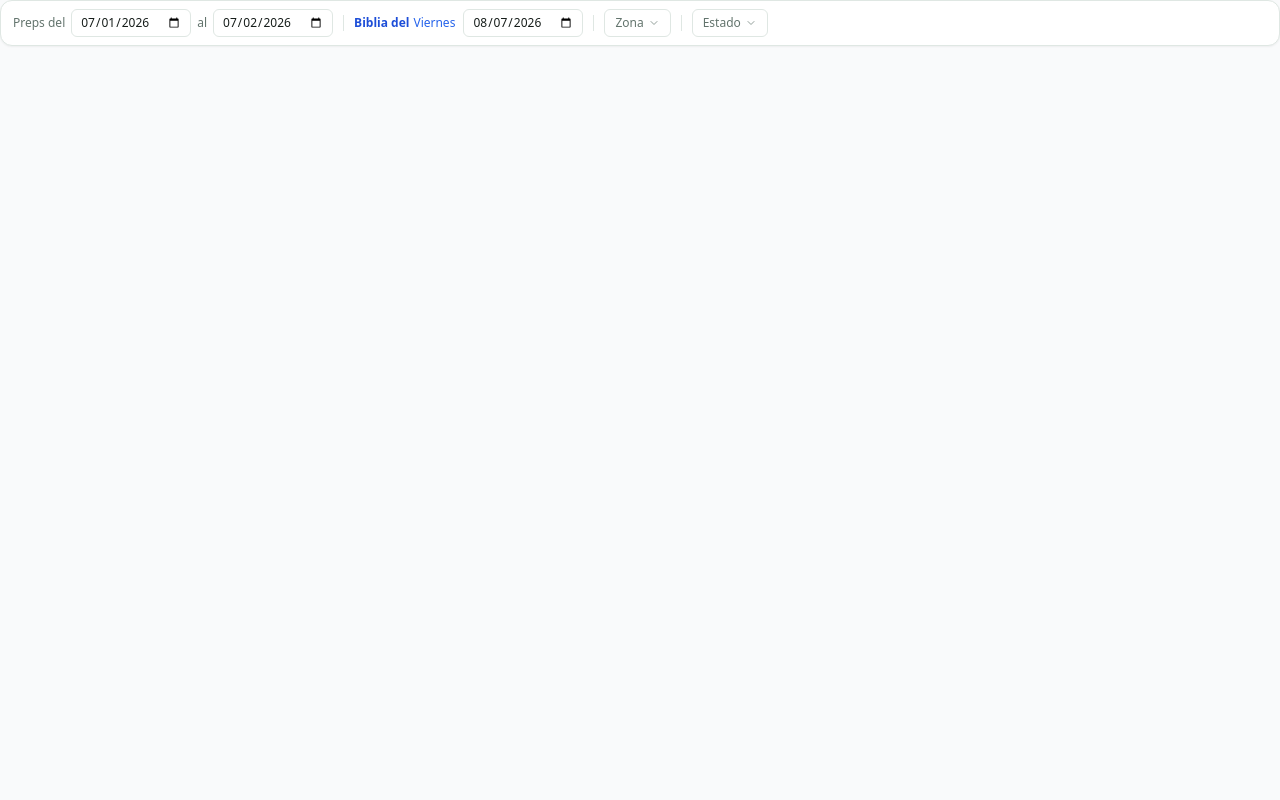
Test: Filters — dropdown de zonas › se cierra al hacer click afuera
This screenshot has width=1280, height=800.
Click the button "Zona".
click(638, 23)  # box top-left (604, 9), bottom-right (671, 37)
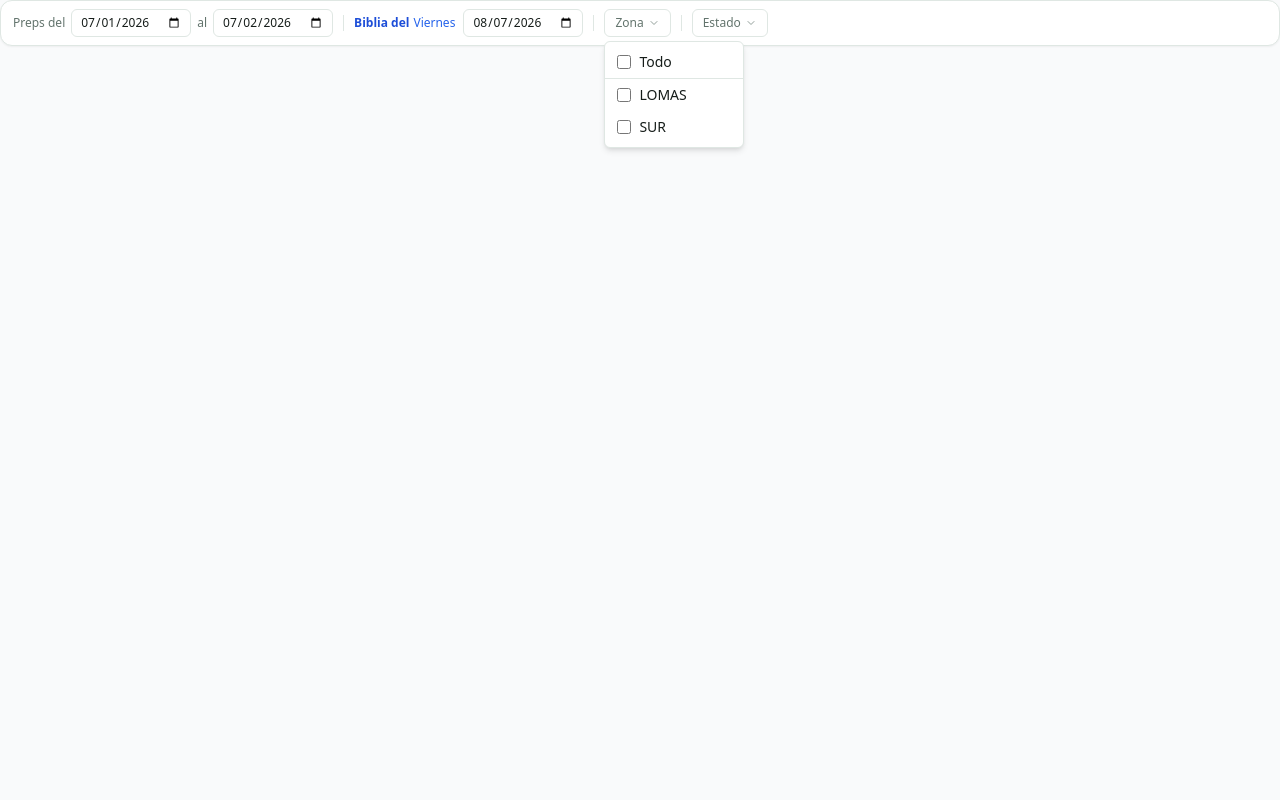
Expected: the checkbox labelled "LOMAS" is shown, top-left (617, 88), bottom-right (631, 102)
Press the mouse on the element showing "Preps del al Biblia del viernes Zona Todo LOMAS SUR Estado" at x=640, y=400, box top-left (0, 0), bottom-right (1279, 799)
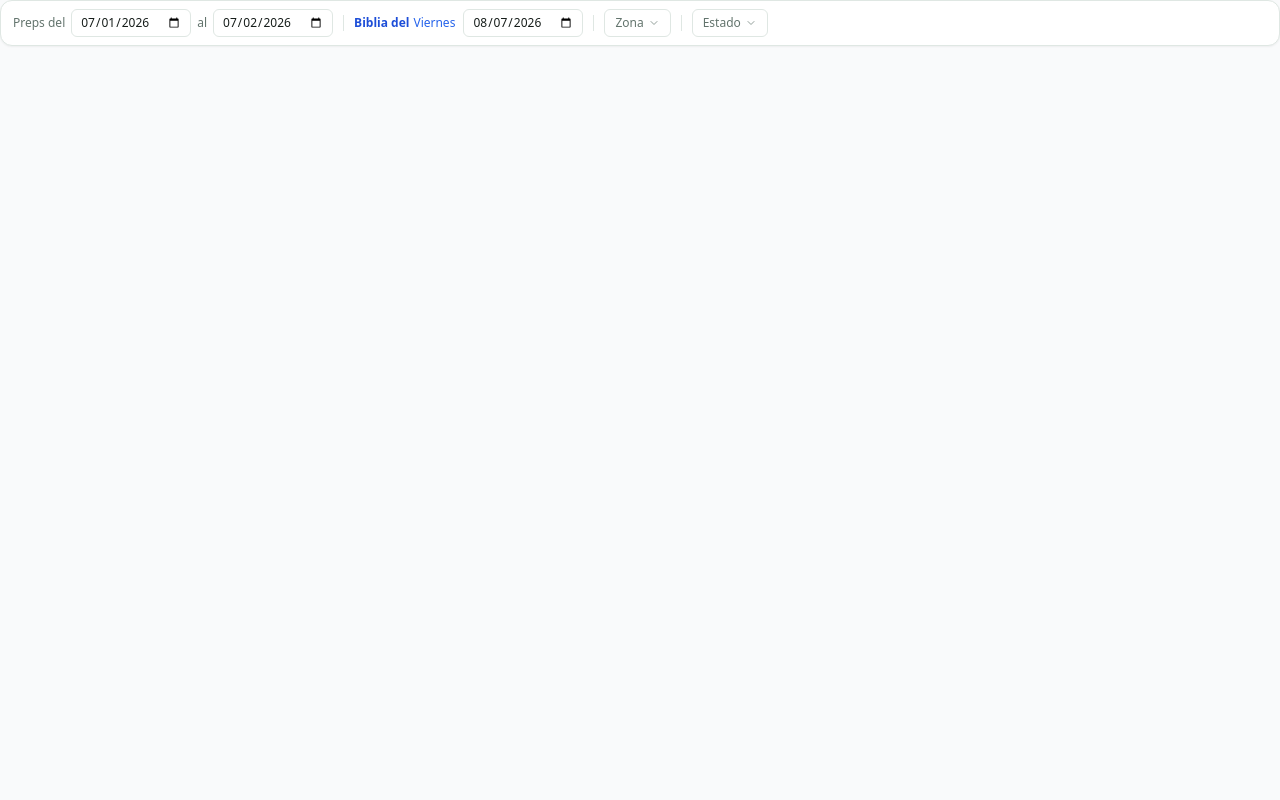
Expected: the label labelled "LOMAS" is gone
